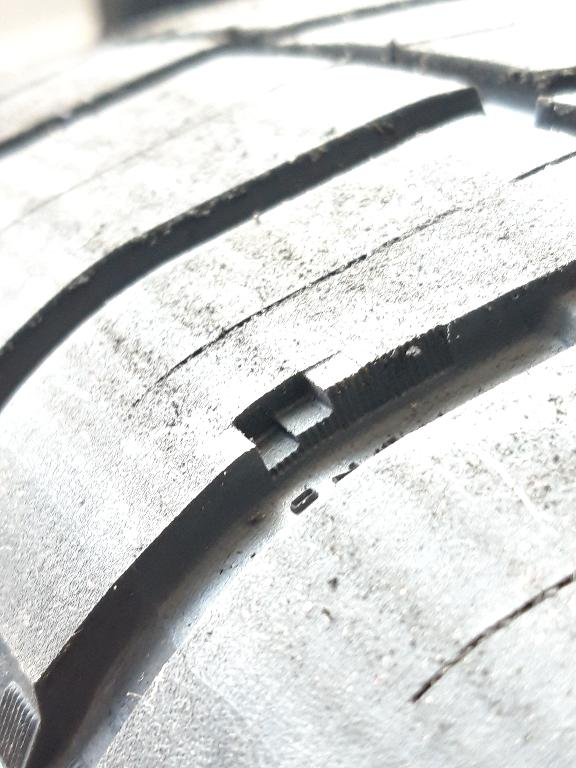temoin:50: (224, 347, 384, 487)
